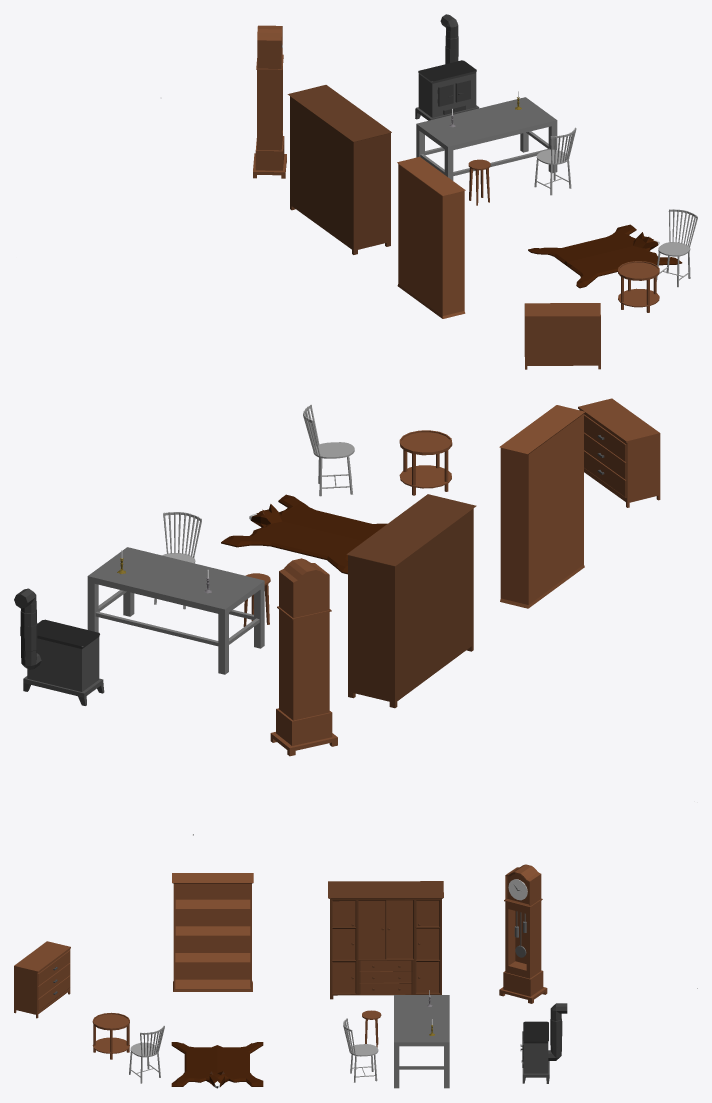
File: HouseKit.glb
3 renders of one model, top to bottom at view 1: azimuth 30°, elevation 25°; view 2: azimuth 150°, elevation 25°; view 3: azimuth 270°, elevation 25°, orthographic. The views are drawn at different scales.
Parts seen in each view (by area): view 1: Cube.050, Cube.073, Cube.008, Cube.045, Cube.044, Cube.016, Cylinder.003, Cylinder.021, Cylinder.001, Cylinder.059, Cube.059; view 2: Cube.050, Cube.073, Cube.008, Cube.044, Cube.045, Cube.016, Cylinder.003, Cylinder.021, Cylinder.001, Cylinder.059, Cylinder.002, Cylinder.004; view 3: Cube.050, Cube.073, Cube.044, Cube.008, Cube.045, Cube.016, Cylinder.003, Cylinder.021, Cylinder.001, Cylinder.059, Cylinder.004.
Part boxes in pixels (bbox=[...]): Cube.050: bbox=[287, 85, 391, 254]; Cube.073: bbox=[397, 156, 465, 318]; Cube.008: bbox=[416, 97, 557, 180]; Cube.045: bbox=[524, 303, 600, 369]; Cube.044: bbox=[253, 25, 286, 178]; Cube.016: bbox=[528, 224, 682, 288]; Cylinder.003: bbox=[415, 60, 479, 120]; Cylinder.021: bbox=[618, 261, 659, 312]; Cylinder.001: bbox=[656, 209, 697, 287]; Cylinder.059: bbox=[534, 127, 576, 195]; Cube.059: bbox=[468, 159, 490, 205]; Cube.050: bbox=[346, 494, 476, 708]; Cube.073: bbox=[499, 405, 585, 608]; Cube.008: bbox=[87, 547, 264, 674]; Cube.044: bbox=[270, 558, 337, 756]; Cube.045: bbox=[578, 398, 660, 507]; Cube.016: bbox=[221, 494, 387, 574]; Cylinder.003: bbox=[23, 619, 104, 705]; Cylinder.021: bbox=[399, 430, 452, 495]; Cylinder.001: bbox=[303, 404, 354, 496]; Cylinder.059: bbox=[154, 512, 201, 609]; Cylinder.002: bbox=[21, 601, 41, 669]; Cylinder.004: bbox=[14, 588, 36, 659]; Cube.050: bbox=[328, 881, 443, 999]; Cube.073: bbox=[172, 873, 253, 991]; Cube.044: bbox=[499, 864, 547, 1003]; Cube.008: bbox=[394, 995, 449, 1088]; Cube.045: bbox=[14, 941, 70, 1018]; Cube.016: bbox=[171, 1042, 263, 1088]; Cylinder.003: bbox=[520, 1021, 549, 1083]; Cylinder.021: bbox=[92, 1012, 129, 1059]; Cylinder.001: bbox=[129, 1025, 164, 1083]; Cylinder.059: bbox=[343, 1018, 378, 1082]; Cylinder.004: bbox=[550, 1003, 567, 1053].
Size of the model in its own units: 9.16 by 2.5 by 12.25.
Materials: 17 (17 with a texture image).
